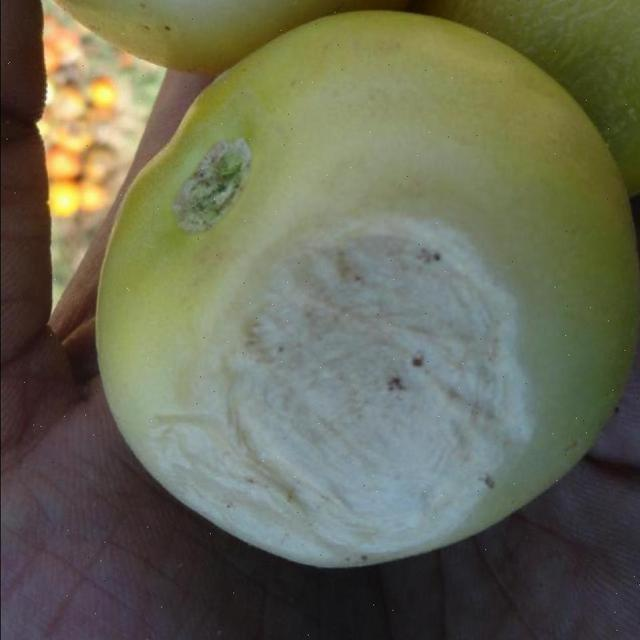Sunscald Fruit: (97, 142, 347, 384)
